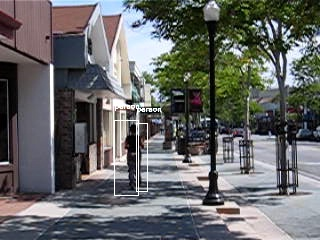person: (124, 124, 145, 190), (123, 124, 144, 190), (125, 124, 146, 190), (124, 123, 145, 189), (124, 125, 145, 191)
target_negative: (13, 52, 236, 210), (226, 87, 250, 196), (116, 91, 149, 148), (251, 47, 269, 106), (233, 124, 288, 140), (36, 143, 37, 191)
